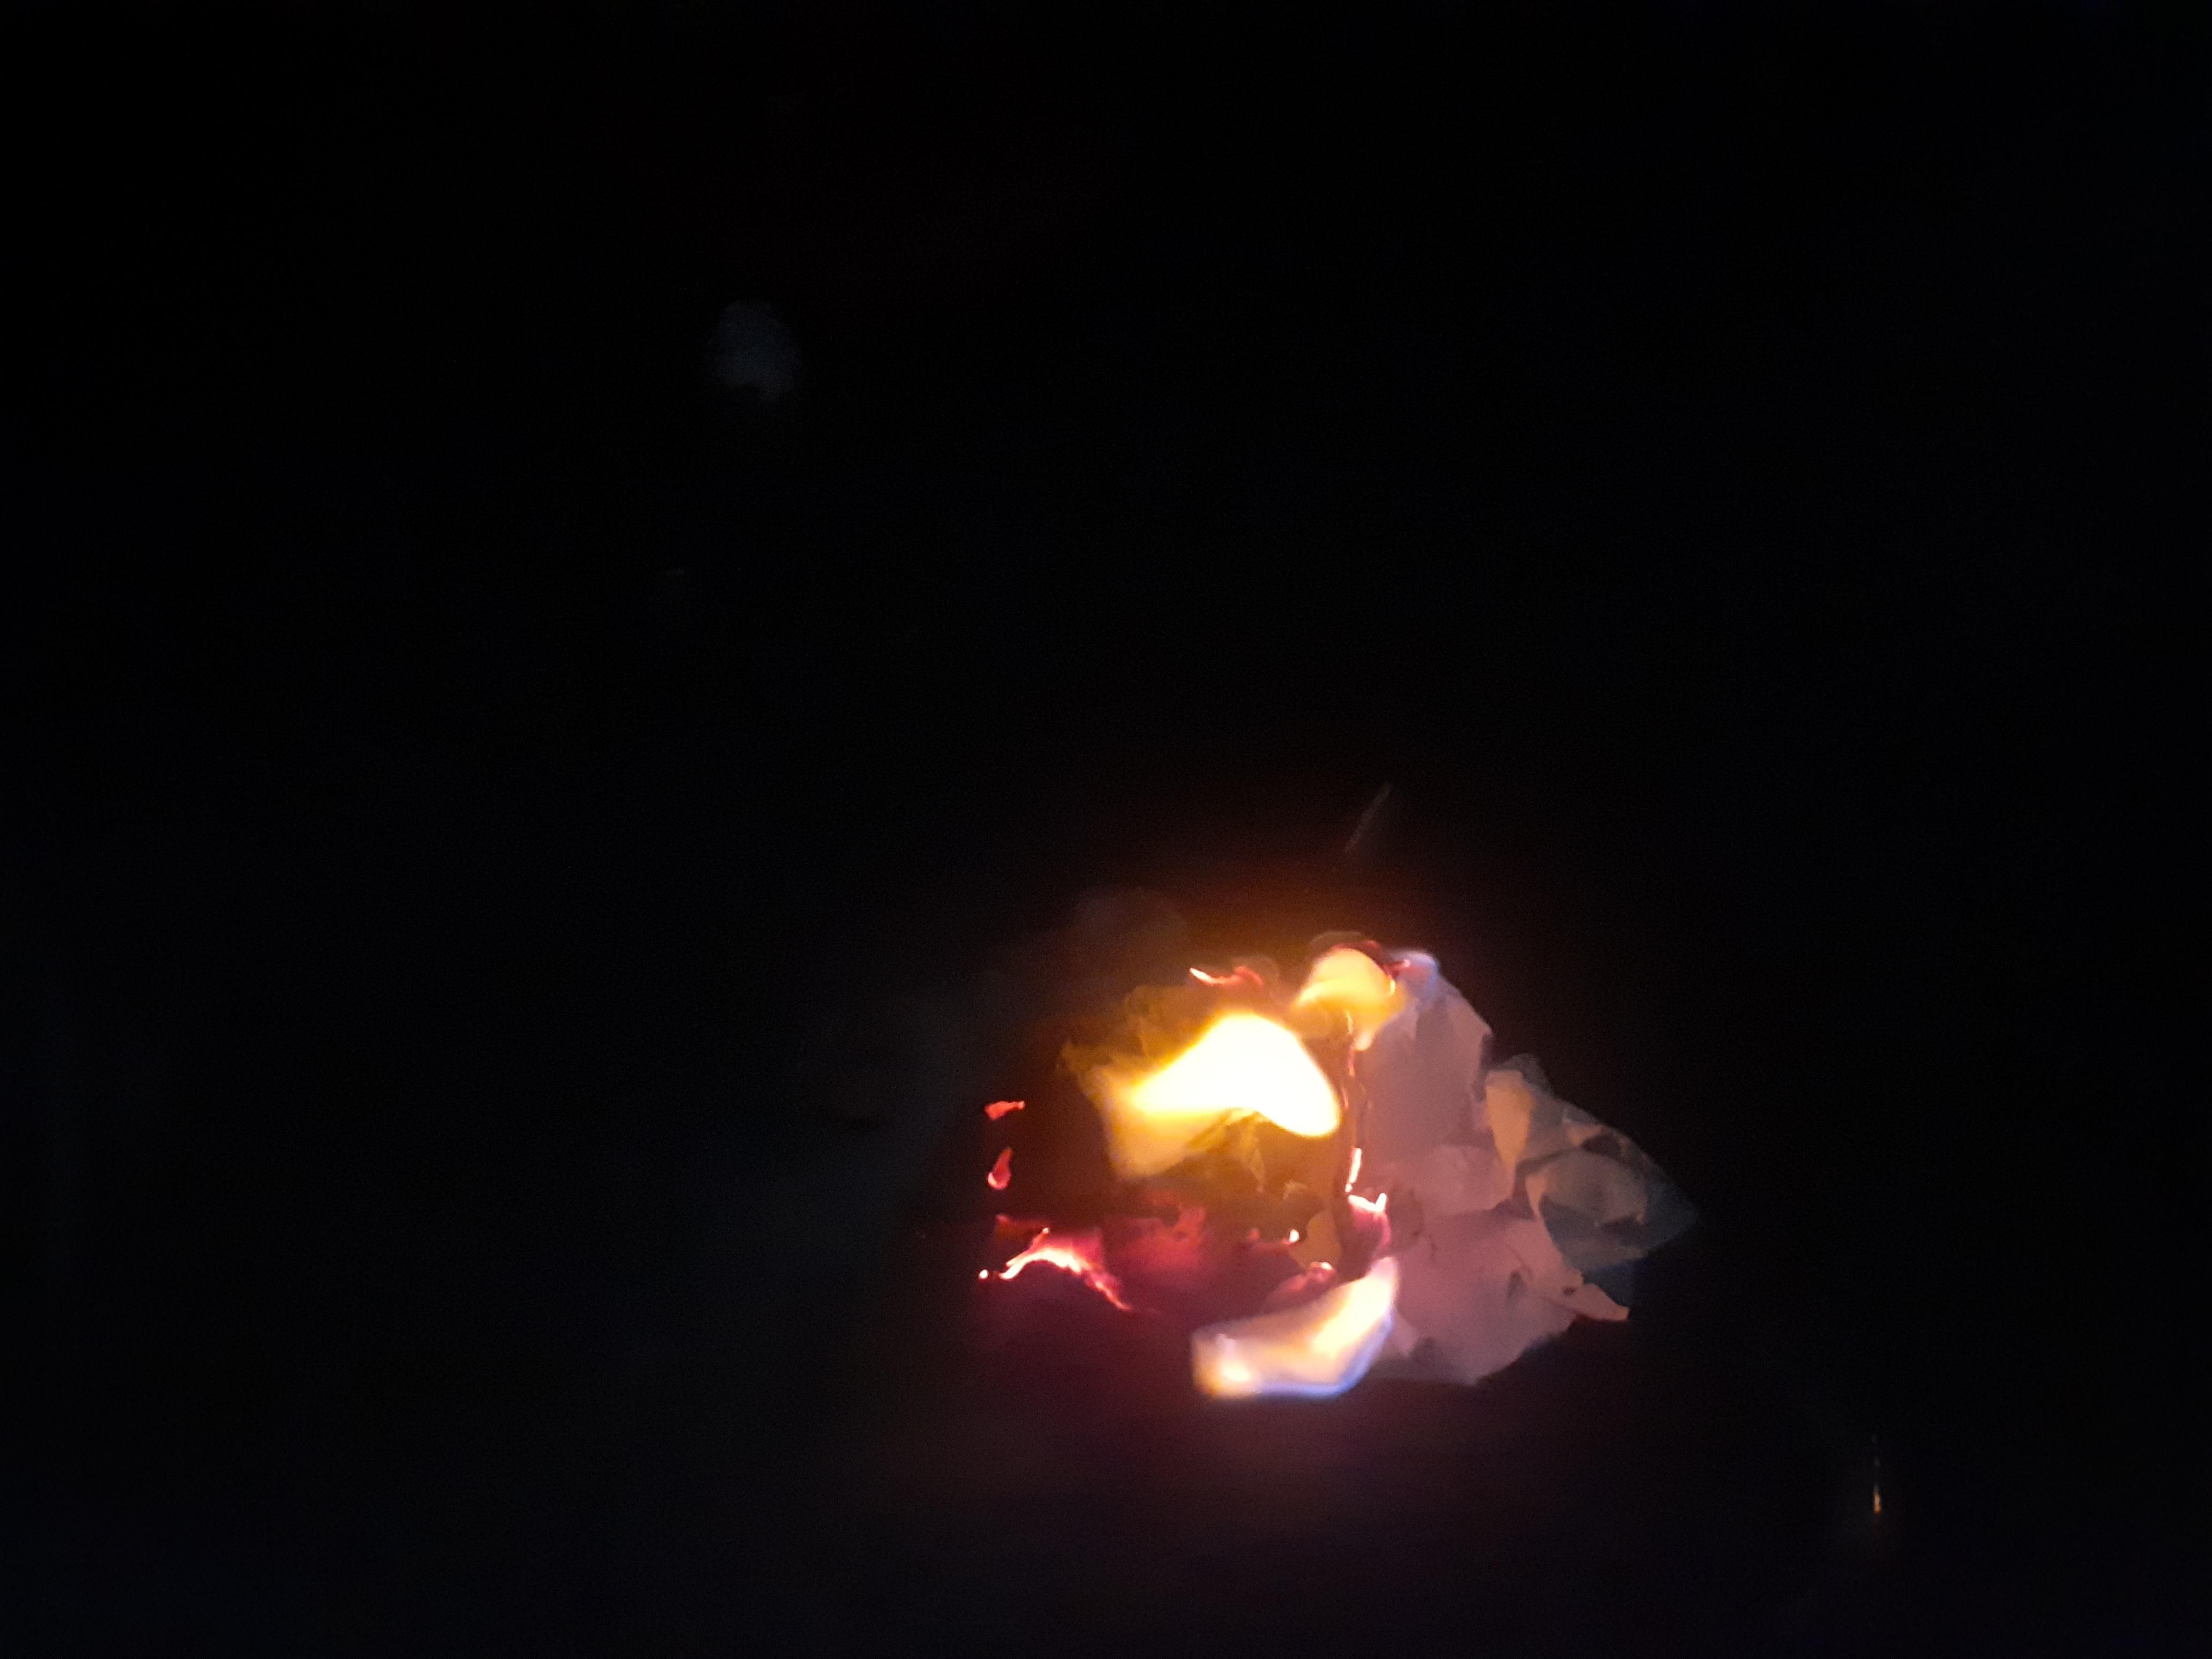fire: (334, 727, 960, 1066)
